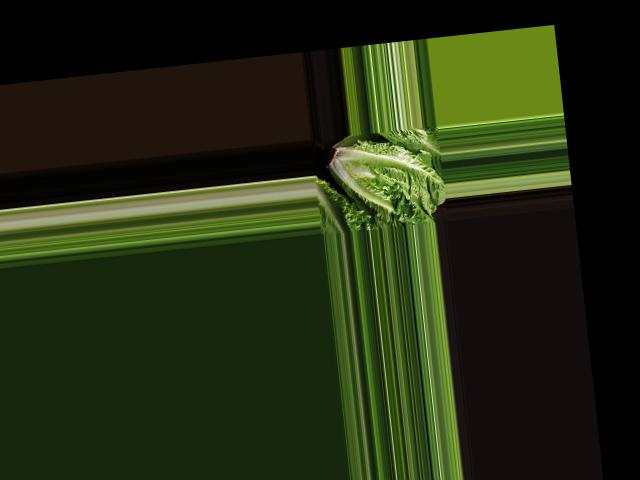lettuce: (317, 125, 446, 227)
